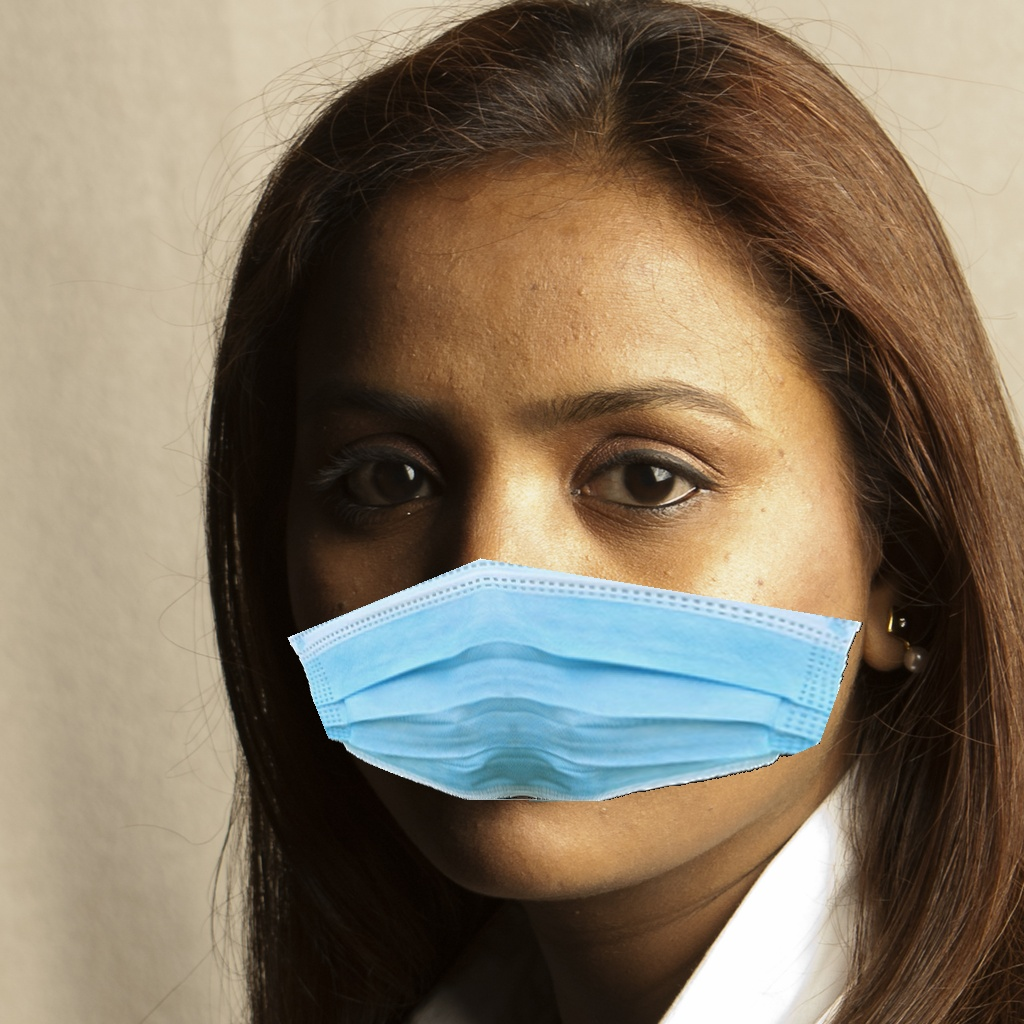Mask_Nose_Mouth: (277, 333, 874, 902)
